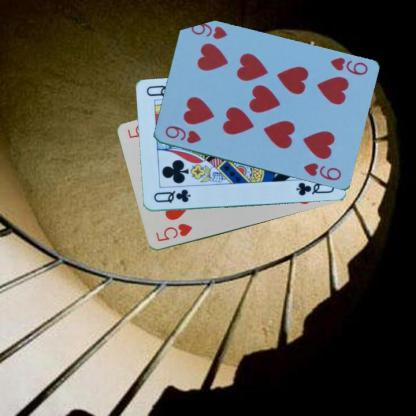5h: (152, 221, 194, 243)
9h: (162, 123, 202, 145), (328, 55, 368, 77)
Qc: (151, 186, 191, 204)
